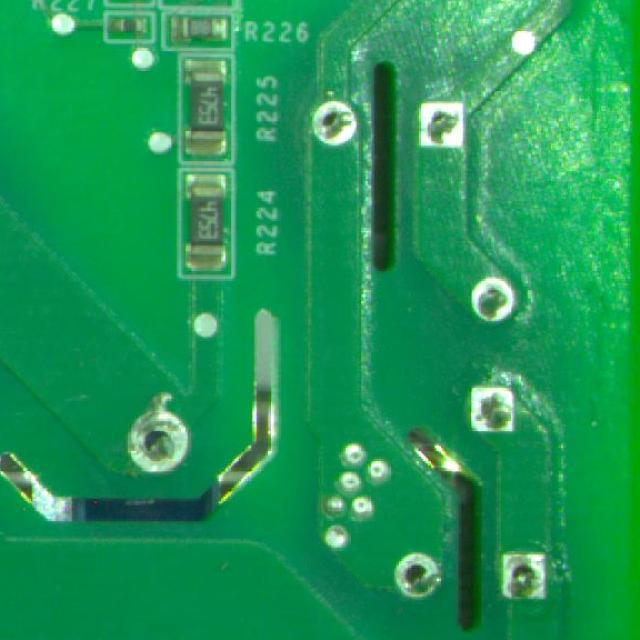Insufficient solder: (494, 542, 564, 627), (113, 400, 190, 474), (416, 93, 470, 169), (456, 269, 522, 330), (383, 546, 451, 600), (304, 93, 364, 151), (466, 373, 518, 437)
